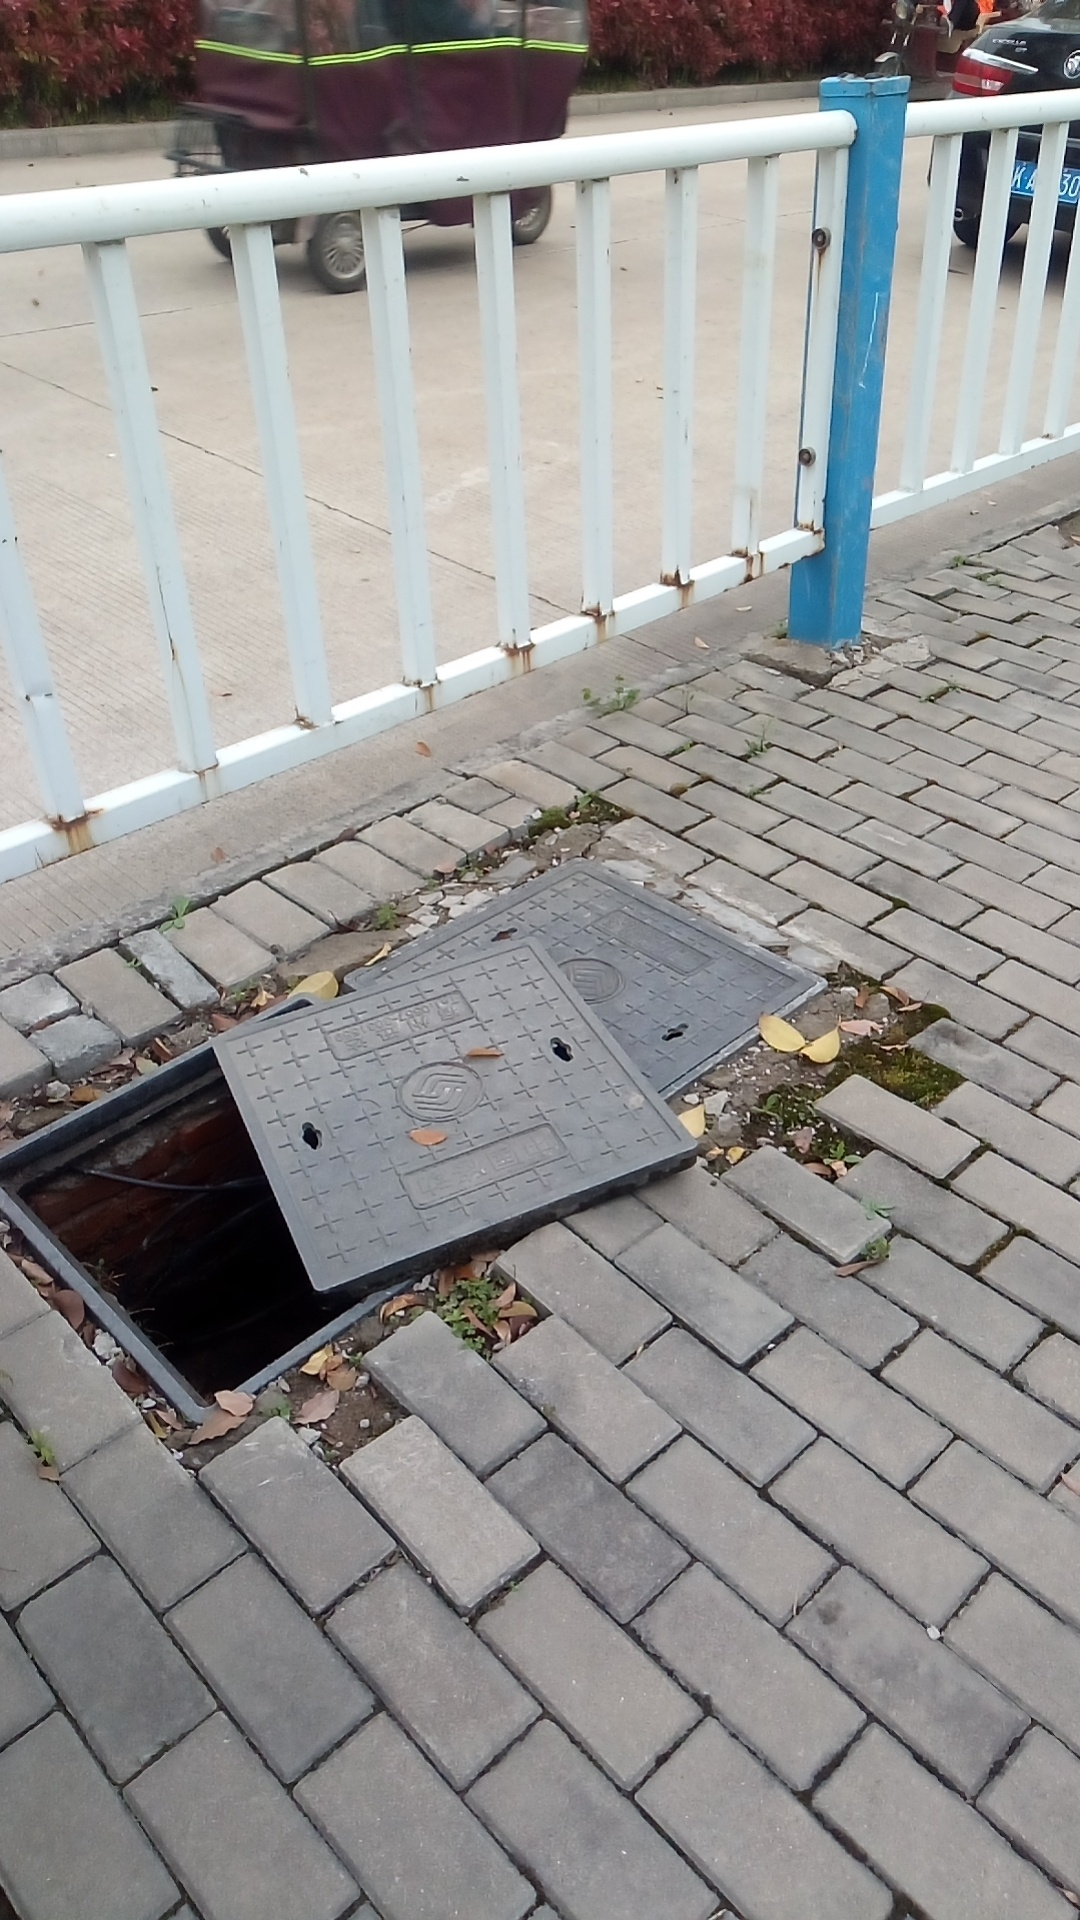uncovered: (3, 858, 825, 1419)
